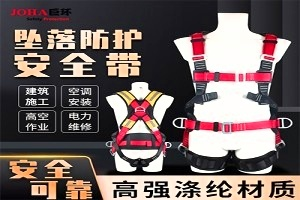safety belt: (179, 33, 284, 171), (113, 90, 167, 168)
